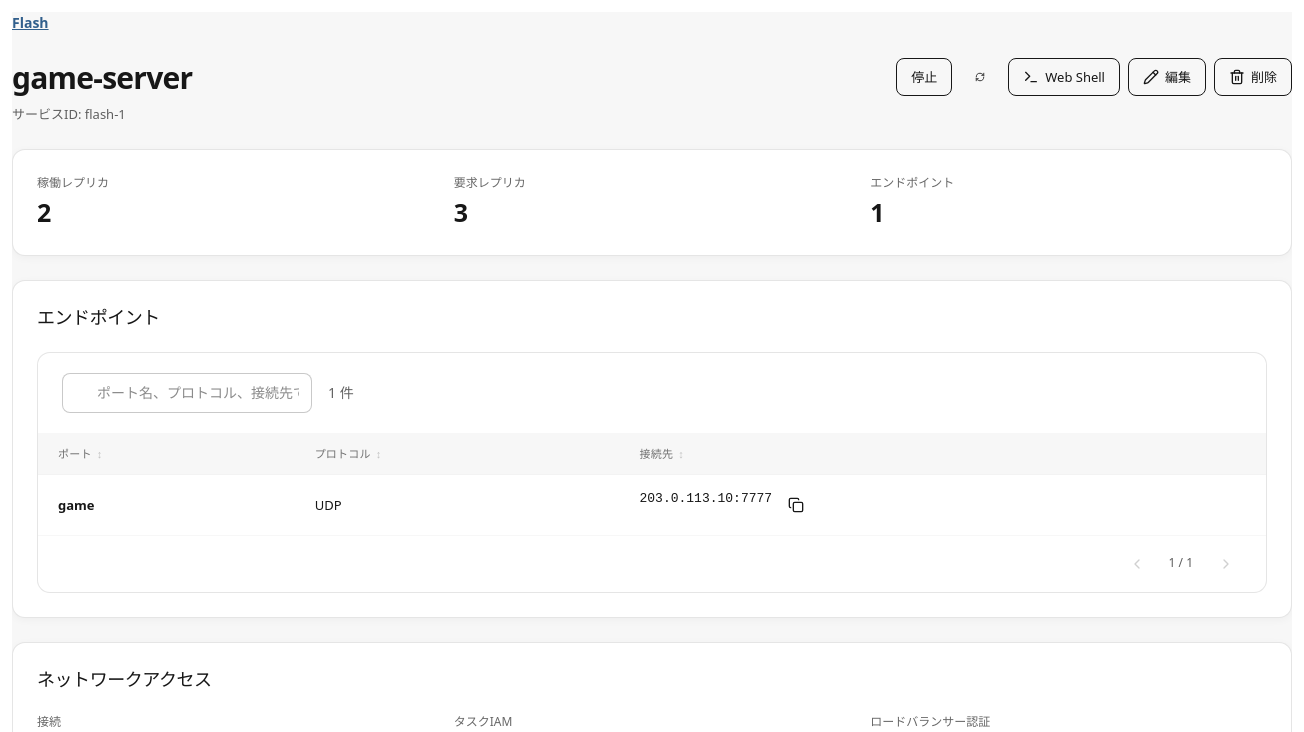
Test case: FlashServiceDetailPage › stops and starts through lifecycle endpoints while keeping the service
Later steps or results of the test are not shown.
Click the button "停止".
click(924, 77)  # box [896,58,952,96]
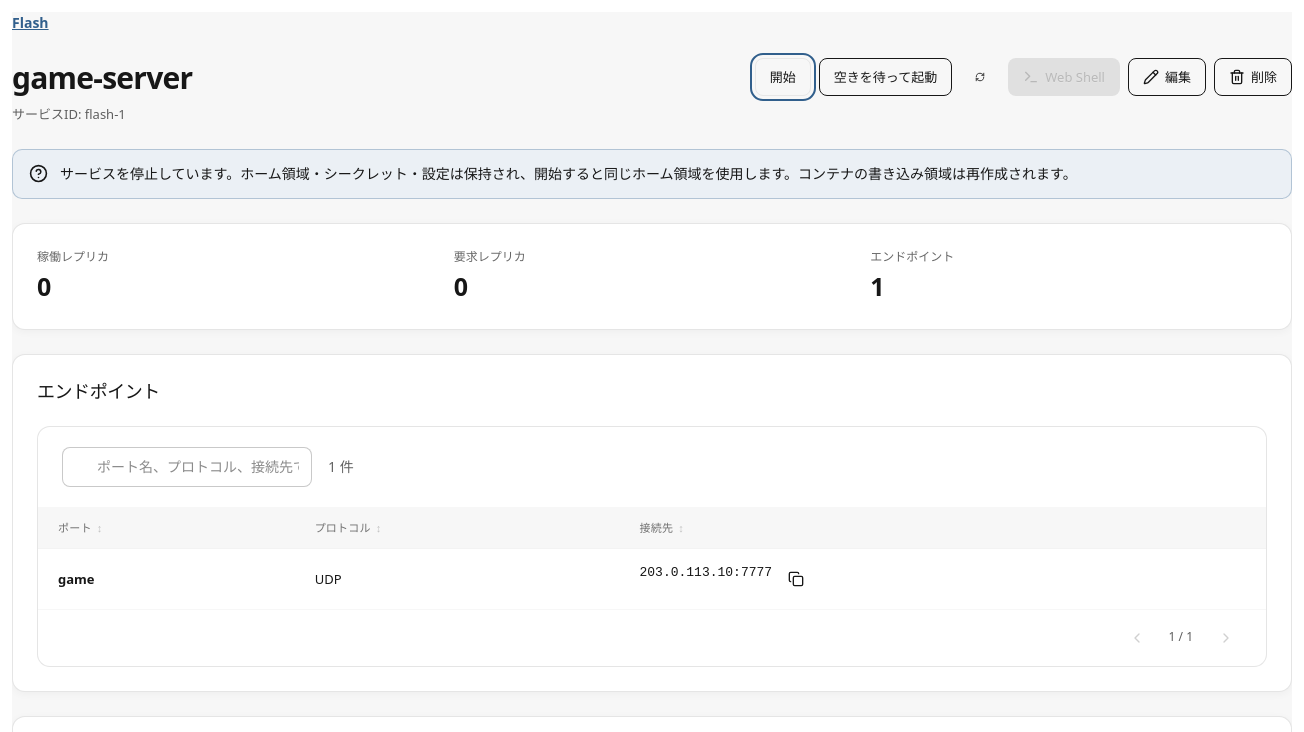
expect the button "開始" is enabled: met, box [755,58,811,96]
expect the button "Web Shell" is disabled: met, box [1008,58,1120,96]
expect the text "ホーム領域・シークレット・設定は保持" is shown: met, box [60,164,1077,183]
